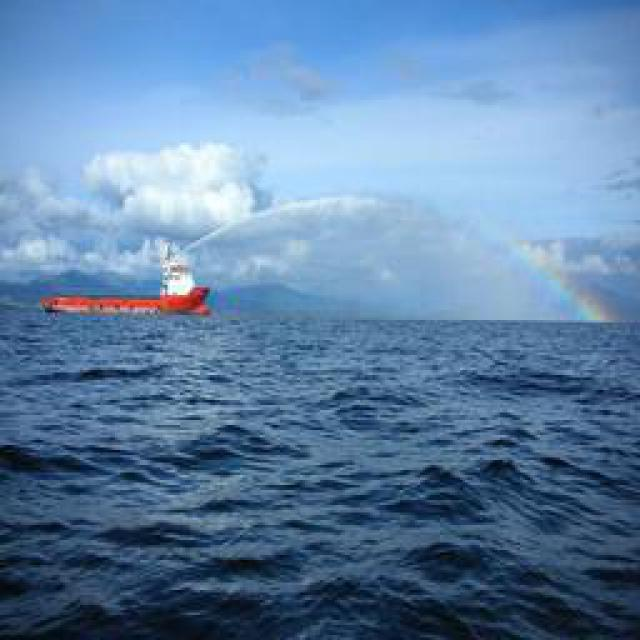Ship: (41, 285, 216, 318)
